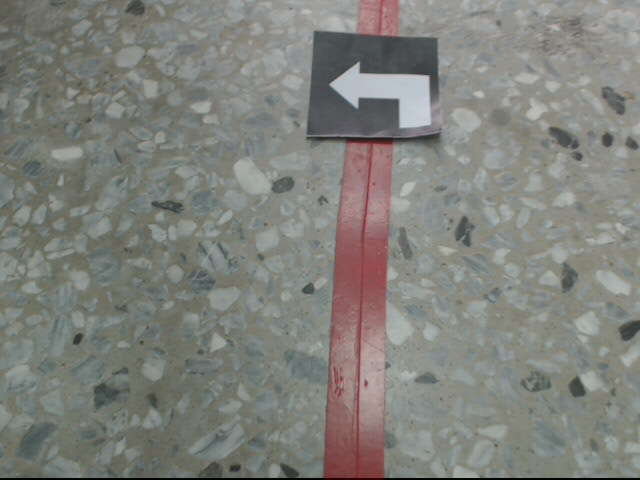left: (307, 30, 442, 140)
